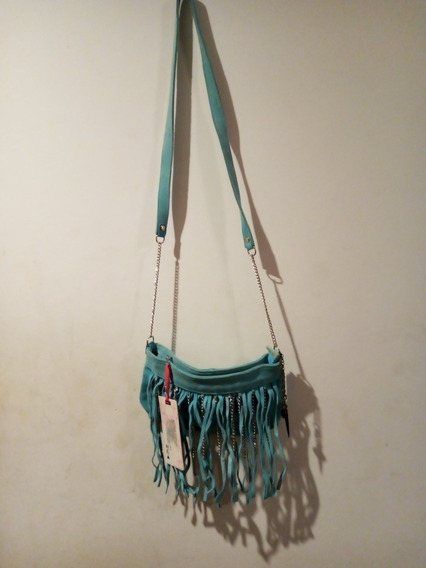cartera: (140, 1, 288, 447)
